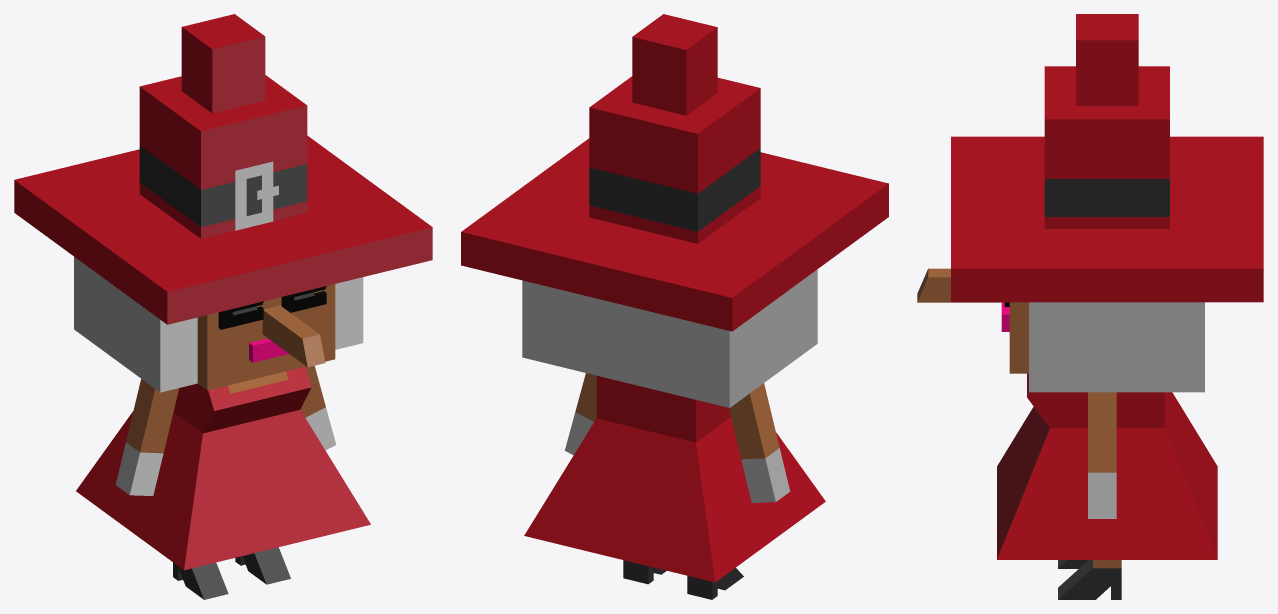
The picture shows the model from 3 angles, left to right: view 1: azimuth 30°, elevation 25°; view 2: azimuth 150°, elevation 25°; view 3: azimuth 270°, elevation 25°; orthographic projection. The views are drawn at different scales.
Parts seen in each view (by area): view 1: Ch_47_Head, Ch_47, Ch_47_Chest, Ch_47_Hand_L, Ch_47_Hand_R, Ch_47_Leg_L, Ch_47_Leg_R, Ch_47_Eye_03_L, Ch_47_Eye_03_R; view 2: Ch_47_Head, Ch_47, Ch_47_Chest, Ch_47_Hand_L, Ch_47_Hand_R, Ch_47_Leg_L, Ch_47_Leg_R; view 3: Ch_47_Head, Ch_47, Ch_47_Chest, Ch_47_Hand_R, Ch_47_Leg_R.
Part boxes in pixels (x1,y1,x2,y2): Ch_47_Head: (14, 14, 432, 392); Ch_47: (76, 410, 370, 570); Ch_47_Chest: (173, 366, 311, 433); Ch_47_Hand_L: (115, 379, 179, 495); Ch_47_Hand_R: (300, 366, 336, 450); Ch_47_Leg_L: (173, 562, 228, 599); Ch_47_Leg_R: (235, 547, 290, 584); Ch_47_Eye_03_L: (218, 301, 263, 329); Ch_47_Eye_03_R: (281, 286, 326, 312); Ch_47_Head: (461, 14, 888, 407); Ch_47: (524, 417, 825, 582); Ch_47_Chest: (596, 376, 730, 442); Ch_47_Hand_L: (729, 383, 790, 502); Ch_47_Hand_R: (565, 373, 596, 454); Ch_47_Leg_L: (687, 567, 743, 599); Ch_47_Leg_R: (623, 560, 666, 584); Ch_47_Head: (917, 14, 1263, 392); Ch_47: (997, 392, 1217, 559); Ch_47_Chest: (1027, 373, 1164, 428); Ch_47_Hand_R: (1088, 392, 1116, 518); Ch_47_Leg_R: (1058, 560, 1121, 599).
Bounding box in the file's own units: 6.98 × 13.57 × 7.73.
